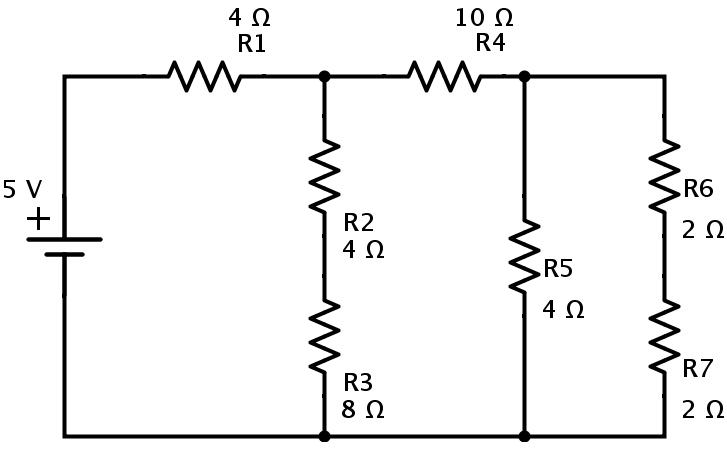Battery: (21, 213, 121, 272)
